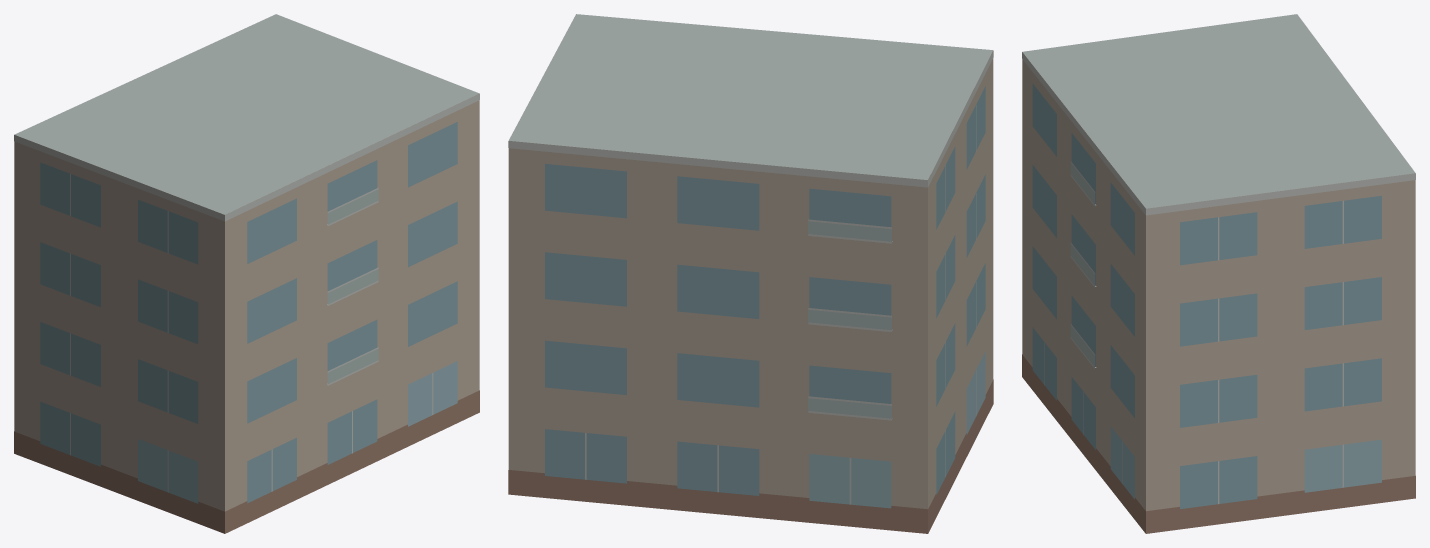
File: survey-upis-32560866.glb
3 renders of one model, left to right at view 1: azimuth 30°, elevation 25°; view 2: azimuth 150°, elevation 25°; view 3: azimuth 270°, elevation 25°, orthographic. The views are drawn at different scales.
Parts seen in each view (by area): view 1: survey-upis-32560866.tmp; view 2: survey-upis-32560866.tmp; view 3: survey-upis-32560866.tmp.
Part boxes in pixels (<box>): survey-upis-32560866.tmp: <box>14,14,479,533</box>; survey-upis-32560866.tmp: <box>508,14,993,533</box>; survey-upis-32560866.tmp: <box>1022,14,1415,533</box>.
Size of the model in its own units: 15.1 by 11.75 by 12.9.
